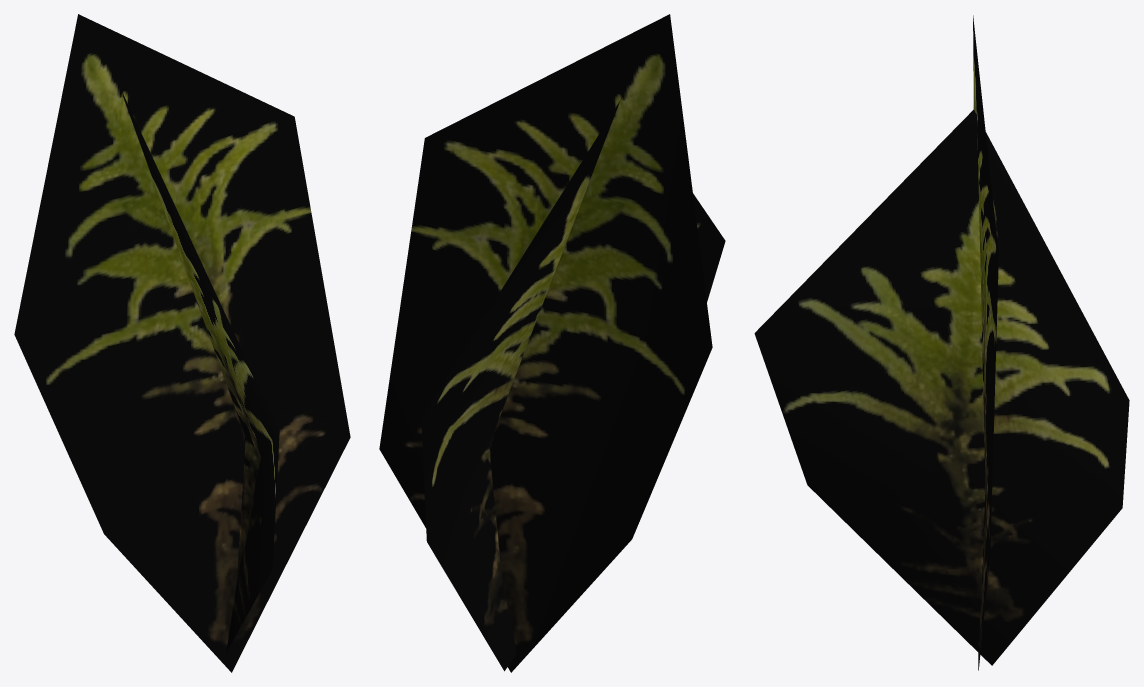
File: moss_01_c.glb
The picture shows the model from 3 angles, left to right: view 1: azimuth 30°, elevation 25°; view 2: azimuth 150°, elevation 25°; view 3: azimuth 270°, elevation 25°; orthographic projection. The views are drawn at different scales.
Visible parts, largest first — view 1: moss_01_e_LOD0; view 2: moss_01_e_LOD0; view 3: moss_01_e_LOD0.
Part boxes in pixels (box(x1,y1,x2,y2)): moss_01_e_LOD0: box(14, 14, 350, 672); moss_01_e_LOD0: box(379, 14, 725, 672); moss_01_e_LOD0: box(754, 15, 1129, 670).
Bounding box in the file's own units: 0.0112 × 0.0222 × 0.0127.
1 material, 1 textured.
